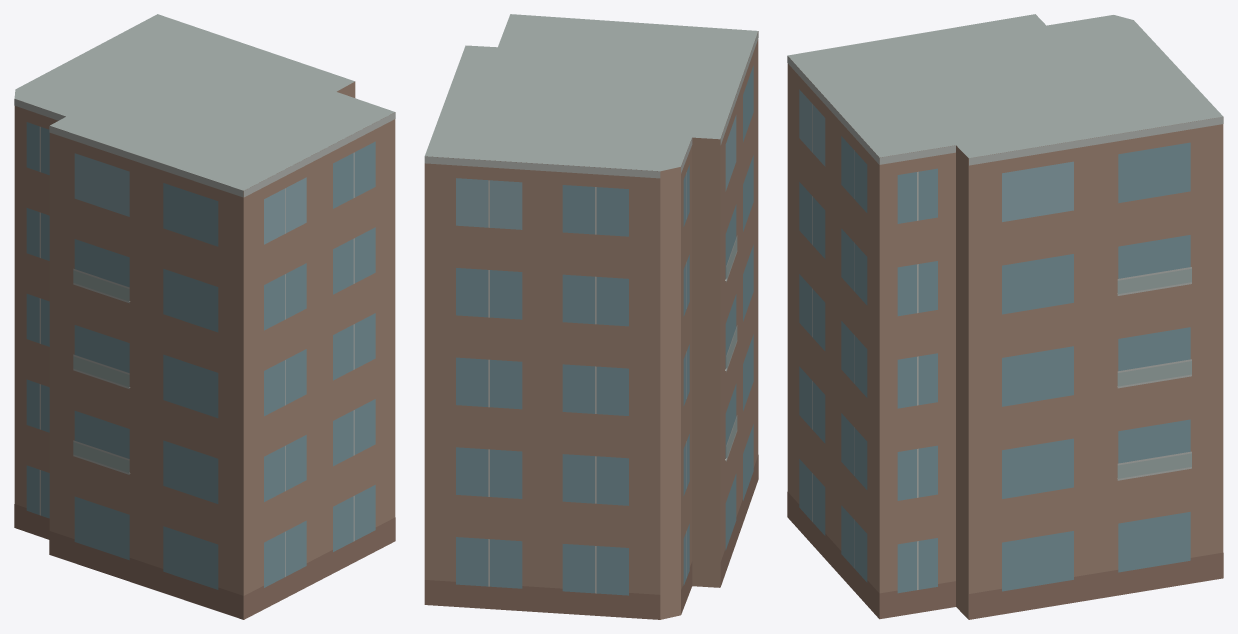
The model's file is survey-upis-32704739.glb.
3 views of the same model, side by side, from view 1: azimuth 30°, elevation 25°; view 2: azimuth 150°, elevation 25°; view 3: azimuth 270°, elevation 25° (orthographic). The views are drawn at different scales.
Parts seen in each view (by area): view 1: survey-upis-32704739.tmp; view 2: survey-upis-32704739.tmp; view 3: survey-upis-32704739.tmp.
Part boxes in pixels (<box>): survey-upis-32704739.tmp: <box>14,14,395,619</box>; survey-upis-32704739.tmp: <box>424,14,758,619</box>; survey-upis-32704739.tmp: <box>787,14,1223,619</box>.
Size of the model in its own units: 10.23 by 15.25 by 13.06.
